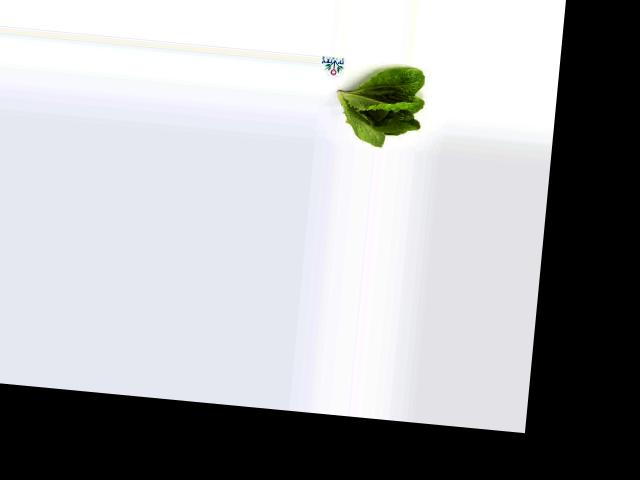lettuce: (332, 62, 430, 152)
